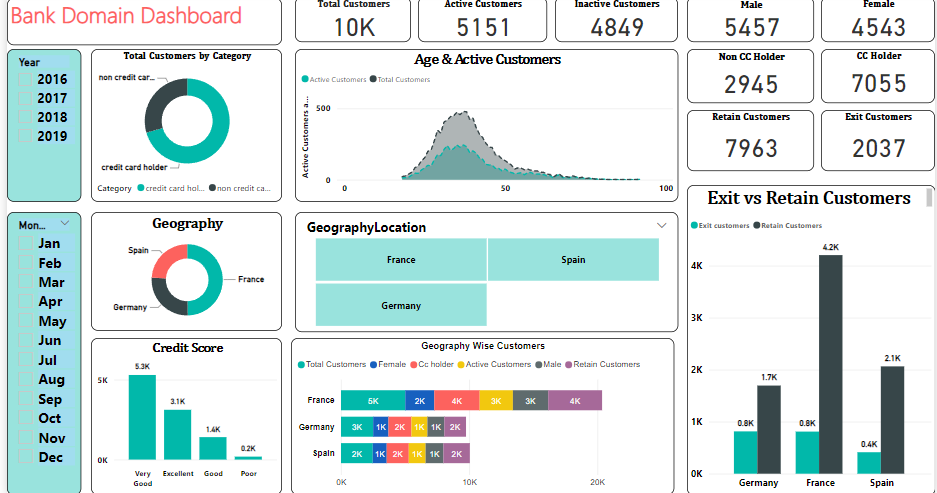

Layout of this report page (visuals, bound fields, positions):
{"tool":"powerbi","page":{"name":"Page 1","canvas":[1337,720],"ordinal":0},"visuals":[{"type":"card","title":"Total Customers","fields":{"Values":["Table.Total Customers"]},"box":[414.7,2.9,167,64.8],"z":0},{"type":"card","title":"Active Customers","fields":{"Values":["Table.Active Customers"]},"box":[591.8,2.9,185.8,64.8],"z":1000},{"type":"card","title":"Male","fields":{"Values":["Table.Male"]},"box":[979.2,2.9,182.9,64.8],"z":2000},{"type":"card","title":"Female","fields":{"Values":["Table.Female"]},"box":[1172.2,2.9,164.2,64.8],"z":3000},{"type":"card","title":"Inactive Customers","fields":{"Values":["Table.Inactive Customers"]},"box":[789.1,2.9,177.1,64.8],"z":4000},{"type":"card","title":"Exit Customers","fields":{"Values":["Table.Exit customers"]},"box":[1171.7,165.3,163.9,87.7],"z":5000},{"type":"card","title":"Retain Customers","fields":{"Values":["Table.Retain Customers"]},"box":[979,165.3,182.6,87.7],"z":6000},{"type":"card","title":"CC Holder","fields":{"Values":["Table.Cc holder"]},"box":[1172.2,77.8,164.2,77.8],"z":7000},{"type":"card","title":" Non CC Holder","fields":{"Values":["Table.CC non holder"]},"box":[979.2,77.8,182.9,77.8],"z":8000},{"type":"donutChart","title":"Total Customers by Category","fields":{"Category":["CreditCard.Category"],"Y":["Table.Total Customers"]},"box":[121,77.8,275,220.3],"z":9000},{"type":"clusteredColumnChart","fields":{"Category":["Geography.GeographyLocation"],"Y":["Table.Exit customers","Table.Retain Customers"]},"box":[979.2,312.5,357.1,407.5],"z":10000},{"type":"areaChart","title":"Age & Active Customers","fields":{"Category":["Bank_Churn.AGE 2"],"Y":["Table.Active Customers","Table.Total Customers"]},"box":[414,77.6,552.1,220],"z":11000},{"type":"columnChart","title":"Credit Score","fields":{"Category":["Bank_Churn.CREDIT_point"],"Y":["Table.Total Customers"]},"box":[121,493.9,275,226.1],"z":12000},{"type":"donutChart","title":"Geography ","fields":{"Category":["Geography.GeographyLocation"],"Y":["Table.Female"]},"box":[121,312.5,275,171.4],"z":13000},{"type":"slicer","fields":{"Values":["Table 2.Year"]},"box":[0,77.8,106.6,220.3],"z":14000},{"type":"slicer","fields":{"Values":["Table 2.Month name"]},"box":[0,312.5,106.6,407.5],"z":15000},{"type":"textbox","box":[0,0,396,77.8],"z":16000},{"type":"slicer","fields":{"Values":["Geography.GeographyLocation"]},"box":[414,312,552.1,172.5],"z":17000},{"type":"barChart","title":"Geography Wise Customers","fields":{"Category":["Geography.GeographyLocation"],"Y":["Table.Total Customers","Table.Female","Table.Cc holder","Table.Active Customers","Table.Male","Table.Retain Customers"]},"box":[409,493.9,551.5,226.1],"z":18000},{"type":"shape","box":[0,4.3,396,67.7],"z":19000},{"type":"textbox","box":[979,273.2,358,38.8],"z":20000},{"type":"shape","box":[979,273.2,358,447.1],"z":21000}]}

Visuals, with their boxes in screenshot pixels (x1, y1, x2, y2), scaled from the page's 1337x720 canvas onto the 937x493 screenshot:
"Total Customers" card: {"x1": 291, "y1": 2, "x2": 408, "y2": 46}
"Active Customers" card: {"x1": 415, "y1": 2, "x2": 545, "y2": 46}
"Male" card: {"x1": 686, "y1": 2, "x2": 814, "y2": 46}
"Female" card: {"x1": 822, "y1": 2, "x2": 936, "y2": 46}
"Inactive Customers" card: {"x1": 553, "y1": 2, "x2": 677, "y2": 46}
"Exit Customers" card: {"x1": 821, "y1": 113, "x2": 936, "y2": 173}
"Retain Customers" card: {"x1": 686, "y1": 113, "x2": 814, "y2": 173}
"CC Holder" card: {"x1": 822, "y1": 53, "x2": 936, "y2": 107}
" Non CC Holder" card: {"x1": 686, "y1": 53, "x2": 814, "y2": 107}
"Total Customers by Category" donutChart: {"x1": 85, "y1": 53, "x2": 278, "y2": 204}
clusteredColumnChart - Geography.GeographyLocation x Table.Exit customers: {"x1": 686, "y1": 214, "x2": 936, "y2": 492}
"Age & Active Customers" areaChart: {"x1": 290, "y1": 53, "x2": 677, "y2": 204}
"Credit Score" columnChart: {"x1": 85, "y1": 338, "x2": 278, "y2": 492}
"Geography " donutChart: {"x1": 85, "y1": 214, "x2": 278, "y2": 331}
slicer - Table 2.Year: {"x1": 0, "y1": 53, "x2": 75, "y2": 204}
slicer - Table 2.Month name: {"x1": 0, "y1": 214, "x2": 75, "y2": 492}
textbox: {"x1": 0, "y1": 0, "x2": 278, "y2": 53}
slicer - Geography.GeographyLocation: {"x1": 290, "y1": 214, "x2": 677, "y2": 332}
"Geography Wise Customers" barChart: {"x1": 287, "y1": 338, "x2": 673, "y2": 492}
shape: {"x1": 0, "y1": 3, "x2": 278, "y2": 49}
textbox: {"x1": 686, "y1": 187, "x2": 936, "y2": 214}
shape: {"x1": 686, "y1": 187, "x2": 936, "y2": 492}
